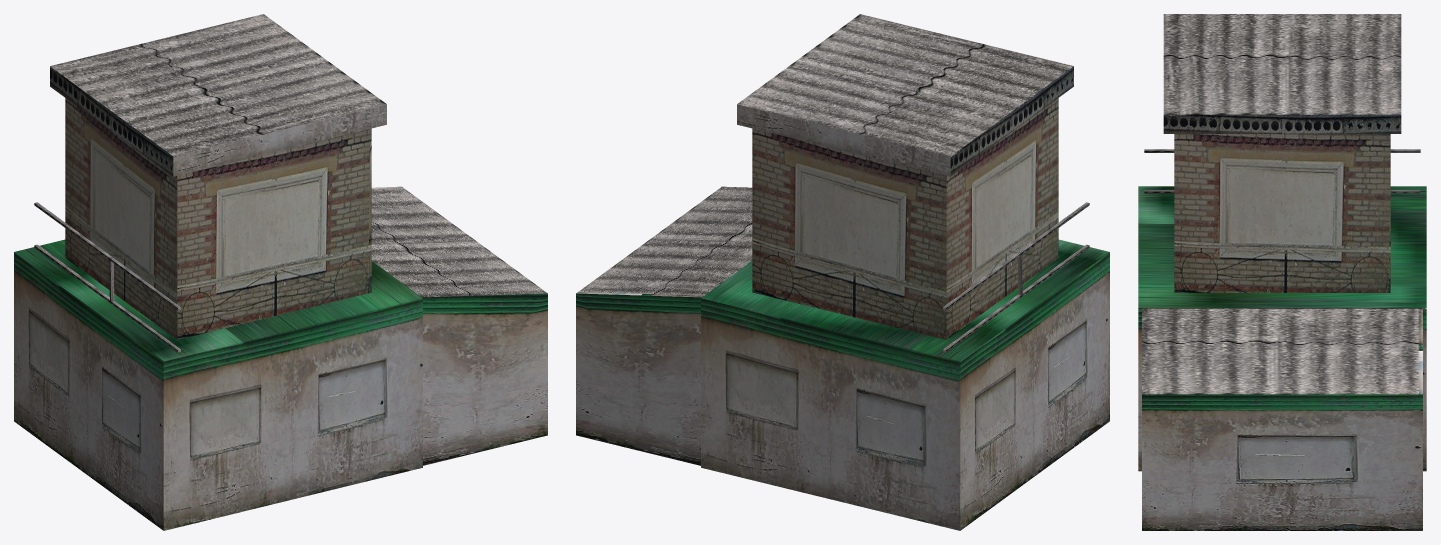
Rendered from r402_dom_1.FBX.
The picture shows the model from 3 angles, left to right: view 1: azimuth 30°, elevation 25°; view 2: azimuth 150°, elevation 25°; view 3: azimuth 270°, elevation 25°; orthographic projection. The views are drawn at different scales.
Parts seen in each view (by area): view 1: r402_dom_1; view 2: r402_dom_1; view 3: r402_dom_1.
Part boxes in pixels (bbox=[...]): r402_dom_1: bbox=[14, 14, 547, 530]; r402_dom_1: bbox=[576, 14, 1109, 530]; r402_dom_1: bbox=[1138, 14, 1426, 530].
Size of the model in its own units: 596 by 400 by 530.
